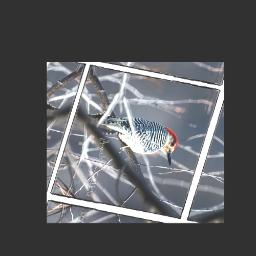Woodpecker: (91, 109, 188, 169)
